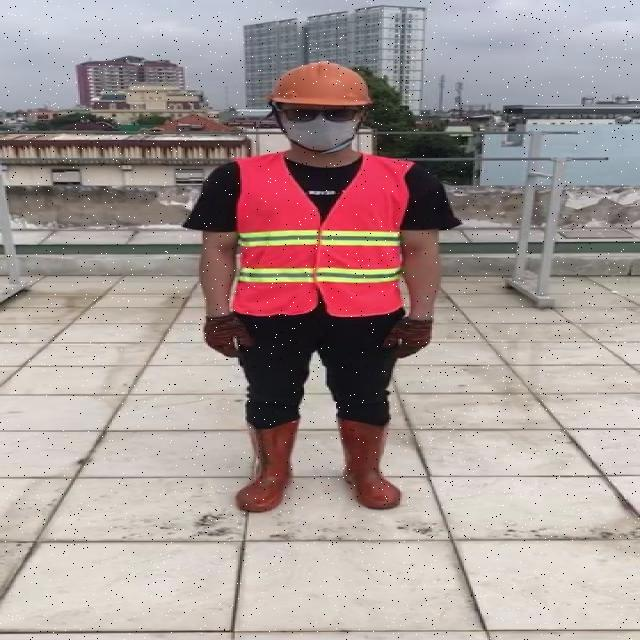Hard_hat: (263, 56, 379, 119)
Vest: (234, 152, 412, 317)
